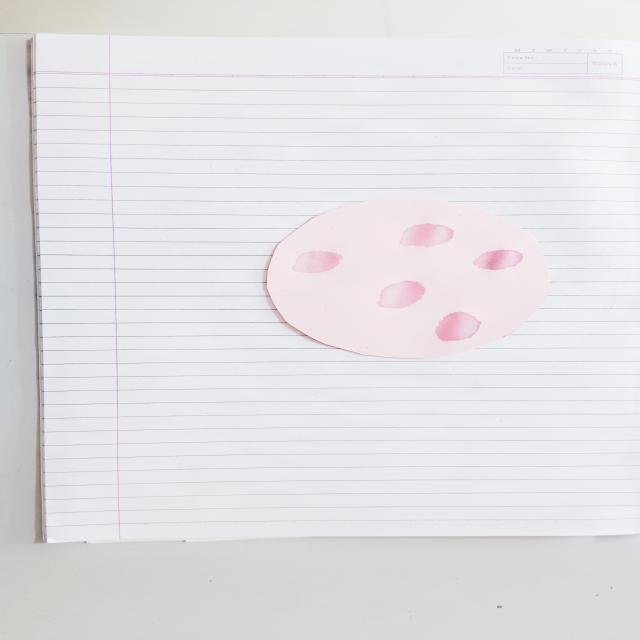BlueColor: (378, 280, 425, 308), (436, 312, 481, 341), (400, 223, 454, 247), (293, 251, 342, 273), (473, 249, 522, 270)
